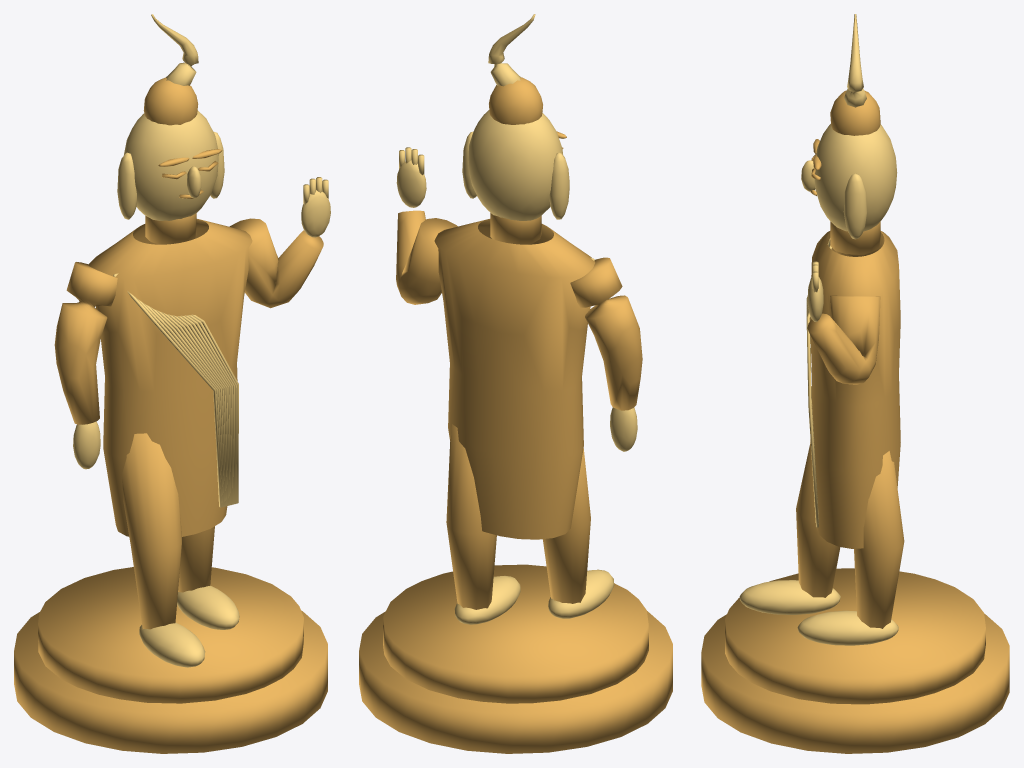
File: buddha-walking.glb
3 renders of one model, left to right at view 1: azimuth 30°, elevation 25°; view 2: azimuth 150°, elevation 25°; view 3: azimuth 270°, elevation 25°, orthographic.
Parts seen in each view (by area): view 1: buddha-walking / Antique warm gold, buddha-walking / Raised gold ornament; view 2: buddha-walking / Antique warm gold, buddha-walking / Raised gold ornament; view 3: buddha-walking / Antique warm gold, buddha-walking / Raised gold ornament.
Boxes of the visible parts, left/top/right/bottom form: buddha-walking / Antique warm gold: left=14, top=77, right=327, bottom=753; buddha-walking / Raised gold ornament: left=73, top=14, right=330, bottom=667; buddha-walking / Antique warm gold: left=359, top=77, right=672, bottom=753; buddha-walking / Raised gold ornament: left=396, top=14, right=637, bottom=624; buddha-walking / Antique warm gold: left=701, top=90, right=1009, bottom=753; buddha-walking / Raised gold ornament: left=739, top=14, right=898, bottom=645.
Size of the model in its own units: 1.72 by 4.05 by 1.7.
